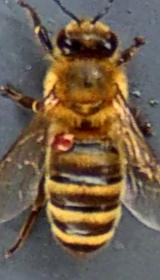varroa_mite: (43, 120, 81, 156)
